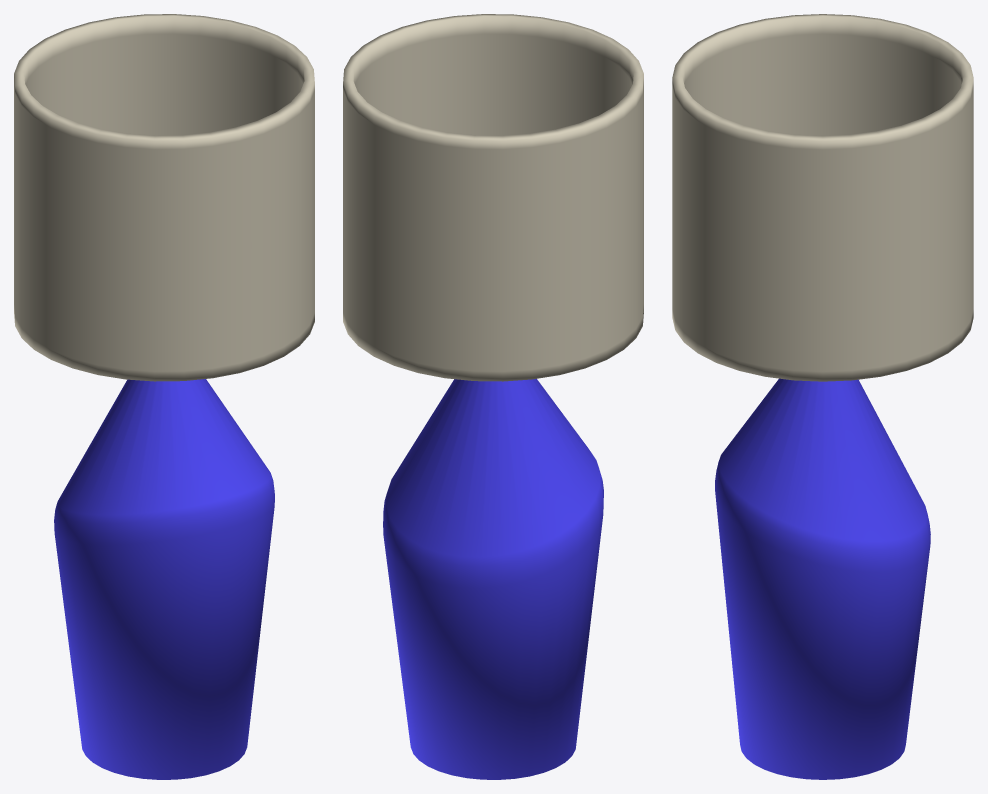
The model's file is Lamp 1.fbx.
3 views of the same model, side by side, from view 1: azimuth 30°, elevation 25°; view 2: azimuth 150°, elevation 25°; view 3: azimuth 270°, elevation 25° (orthographic).
Parts seen in each view (by area): view 1: Cylinder.001; view 2: Cylinder.001; view 3: Cylinder.001.
Part boxes in pixels (x1,y1,x2,y2): Cylinder.001: (14,14,314,779); Cylinder.001: (343,14,643,779); Cylinder.001: (672,14,973,779).
Size of the model in its own units: 363 by 890 by 363.
